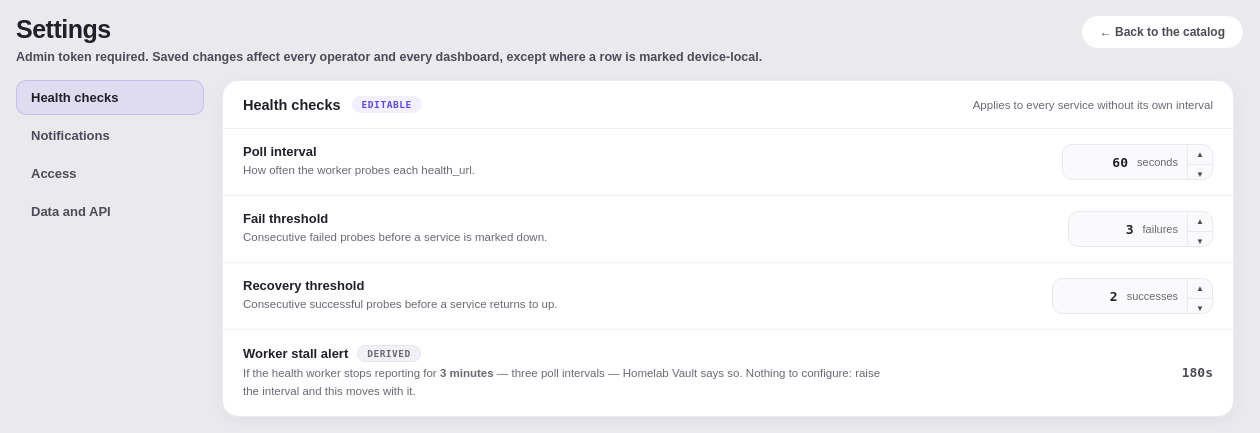
Scenario: int settings are typable, not stepper-only › restores the saved value when the field is left empty
Clear the number field named "Poll interval" at (1100,162), box [1063,145,1137,179]
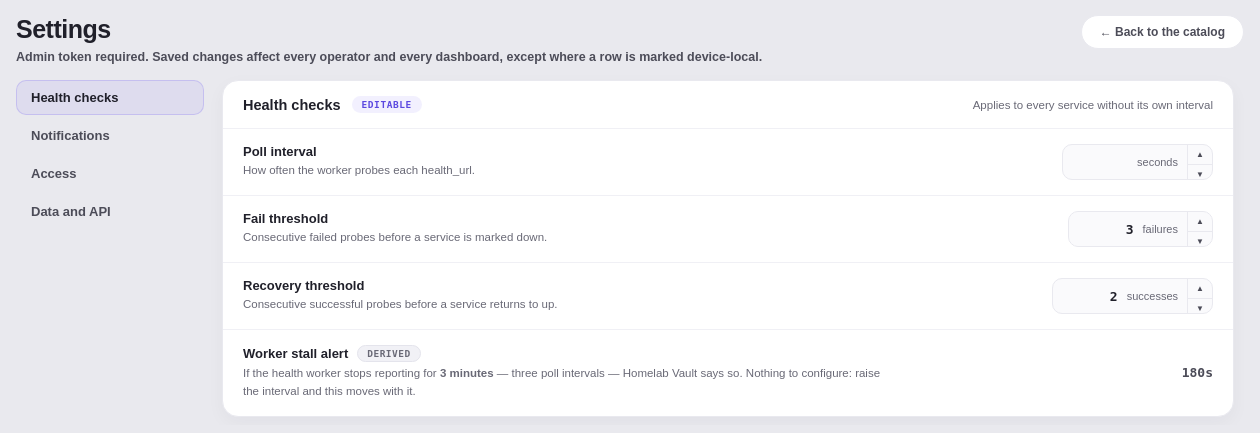
Leave the number field named "Poll interval", box [1063,145,1137,179]
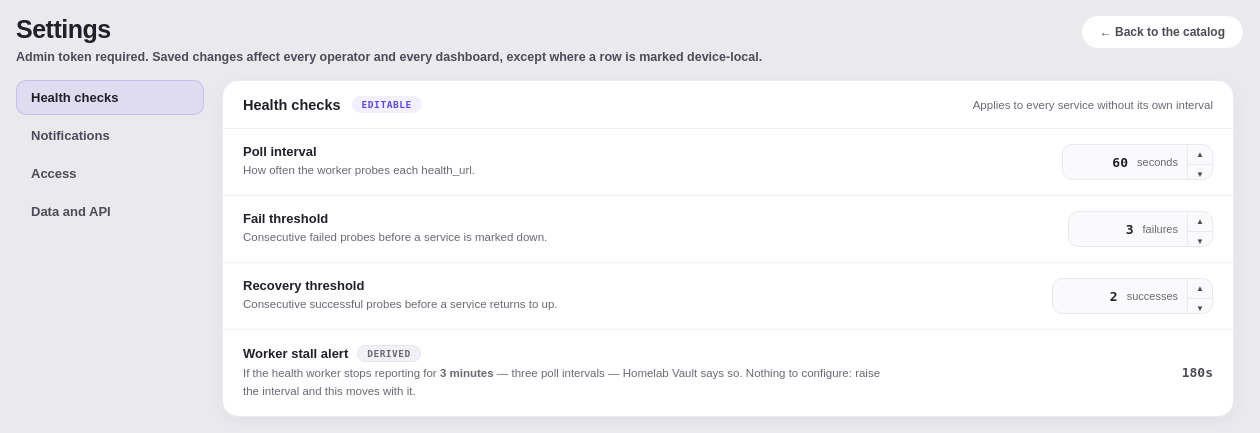
Expected: the number field named "Poll interval" holds "60", [1063,145,1137,179]
